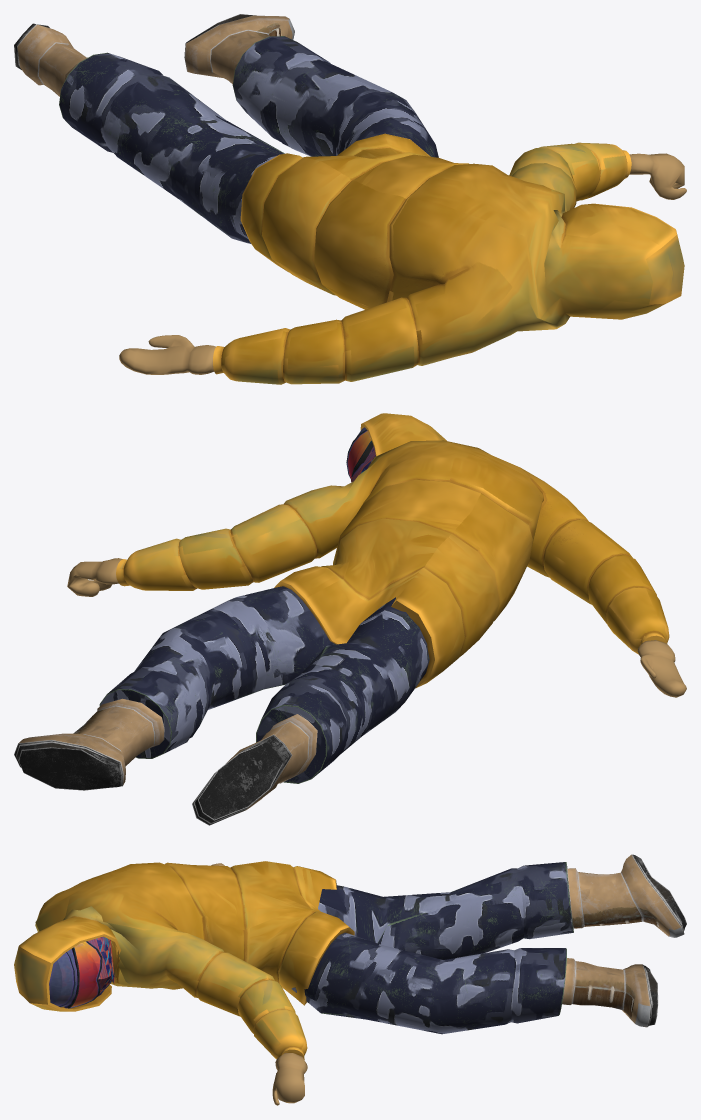
The model's file is nemo.glb.
3 views of the same model, one above another, from view 1: azimuth 30°, elevation 25°; view 2: azimuth 150°, elevation 25°; view 3: azimuth 270°, elevation 25° (orthographic). The views are drawn at different scales.
Visible parts, largest first — view 1: jaket.003, trausers.003, boots.003, gloves.002; view 2: jaket.003, trausers.003, boots.003, gloves.002, gogle.003; view 3: jaket.003, trausers.003, boots.003, gogle.003, gloves.002, beanie.003, face-mask.003.
Part boxes in pixels (box(x1,y1,x2,y2)): jaket.003: box(213, 133, 684, 384); trausers.003: box(59, 36, 438, 243); boots.003: box(14, 14, 294, 96); gloves.002: box(119, 153, 686, 374); jaket.003: box(116, 413, 669, 688); trausers.003: box(99, 586, 429, 783); boots.003: box(14, 698, 317, 825); gloves.002: box(67, 558, 686, 697); gogle.003: box(346, 429, 373, 479); jaket.003: box(14, 861, 354, 1059); trausers.003: box(291, 862, 573, 1034); boots.003: box(562, 854, 686, 1027); gogle.003: box(64, 941, 102, 1008); gloves.002: box(211, 863, 307, 1105); beanie.003: box(49, 949, 77, 1007); face-mask.003: box(88, 936, 114, 996).
Bounding box in the file's own units: 1.46 × 0.364 × 1.77.
Materials: 5 (5 with a texture image).
